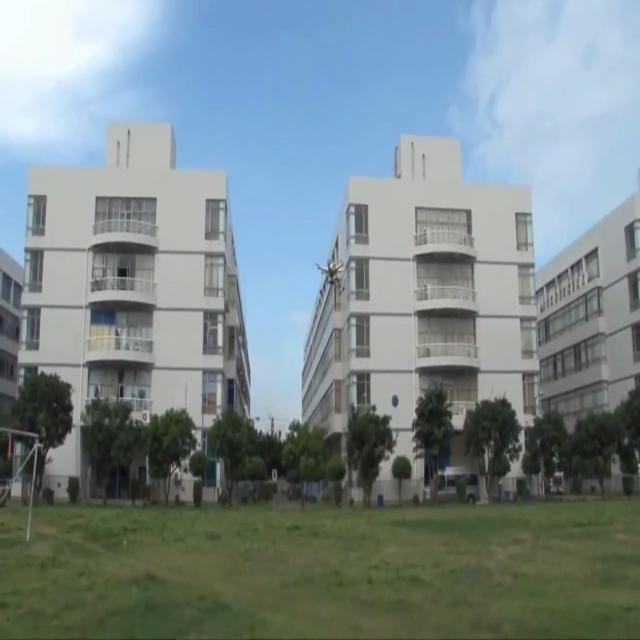drone: (315, 257, 344, 287)
